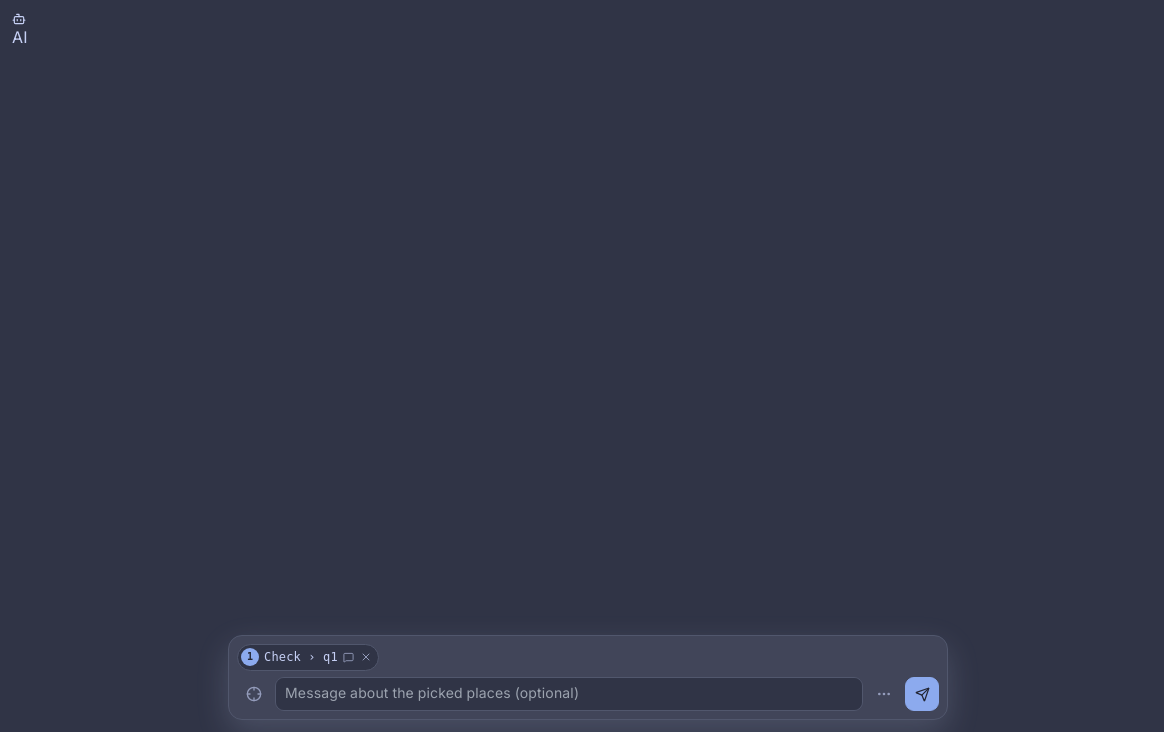
AssistantDock with the Pick tray › keeps asking from the message bar, repeating the earlier turns unchanged so the server can reuse its cache
The bar sends its picks with the message.
Click the button with test id "ai-toggle" at (20, 32), box left=12, top=12, right=28, bottom=52
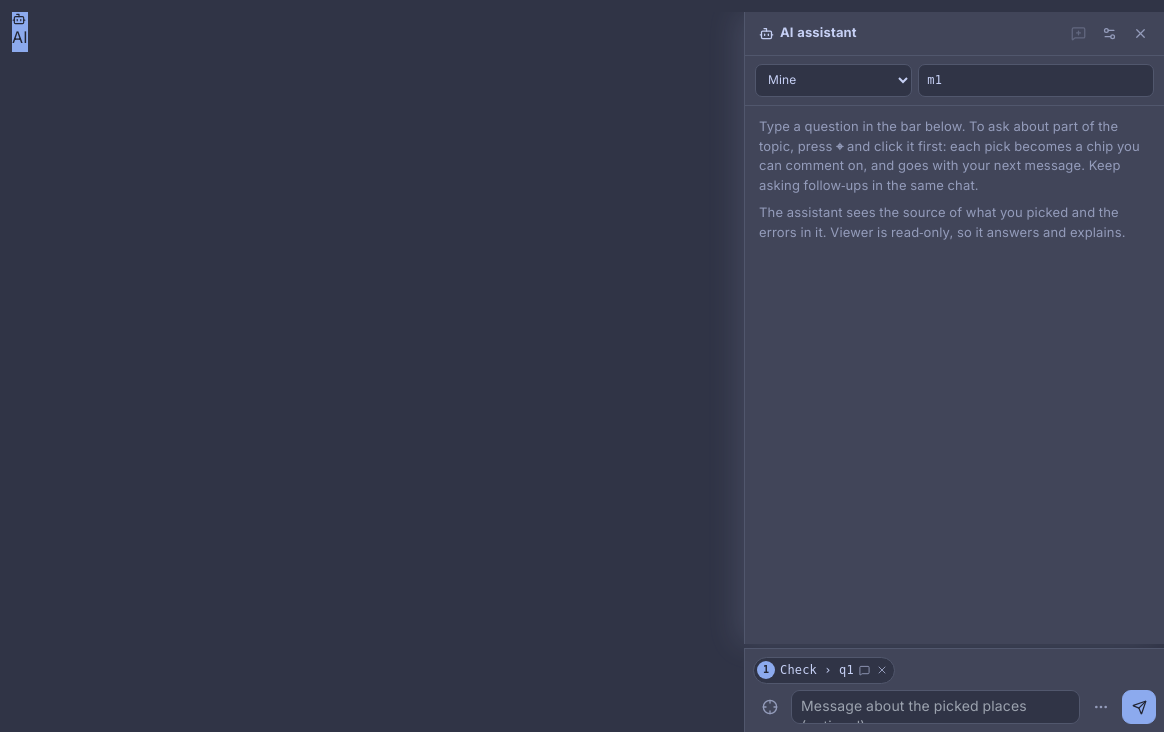
Type "Is it fair?" into the text box with test id "pick-composer" at (936, 707), box left=791, top=690, right=1080, bottom=724
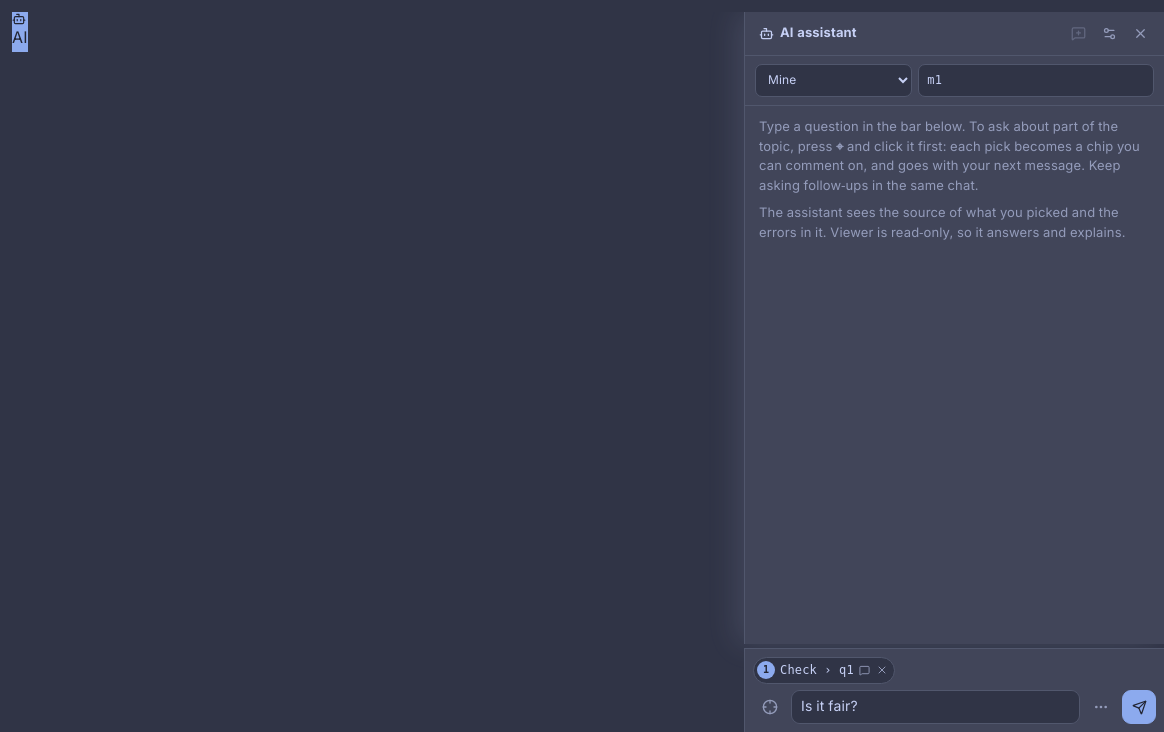
Press Enter in the text box with test id "pick-composer", box left=791, top=690, right=1080, bottom=724
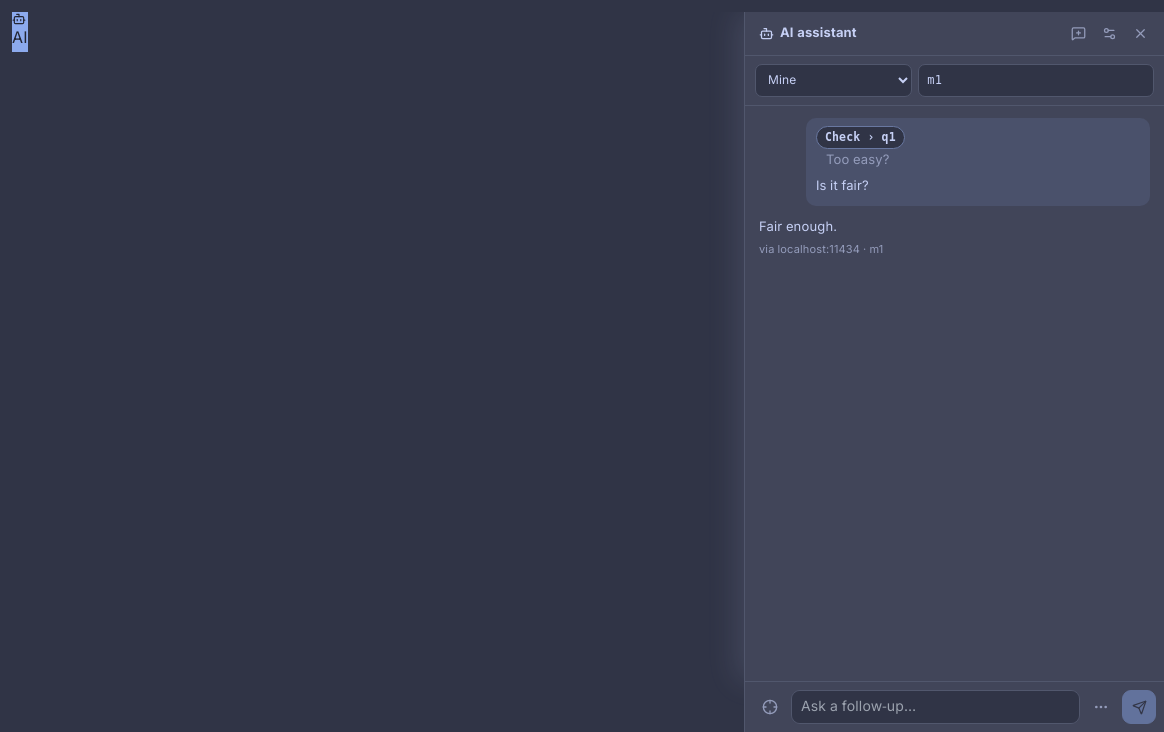
Check: the button with test id "ai-chip" reads "Check › q1", box left=816, top=126, right=905, bottom=149
Check: the list item with test id "pick-entry" is gone
Check: the text box with test id "pick-composer" is empty
A follow-up: Shift+Enter is a new line, Enter sends.
Type "And q2?" into the text box with test id "pick-composer" at (936, 707), box left=791, top=690, right=1080, bottom=724
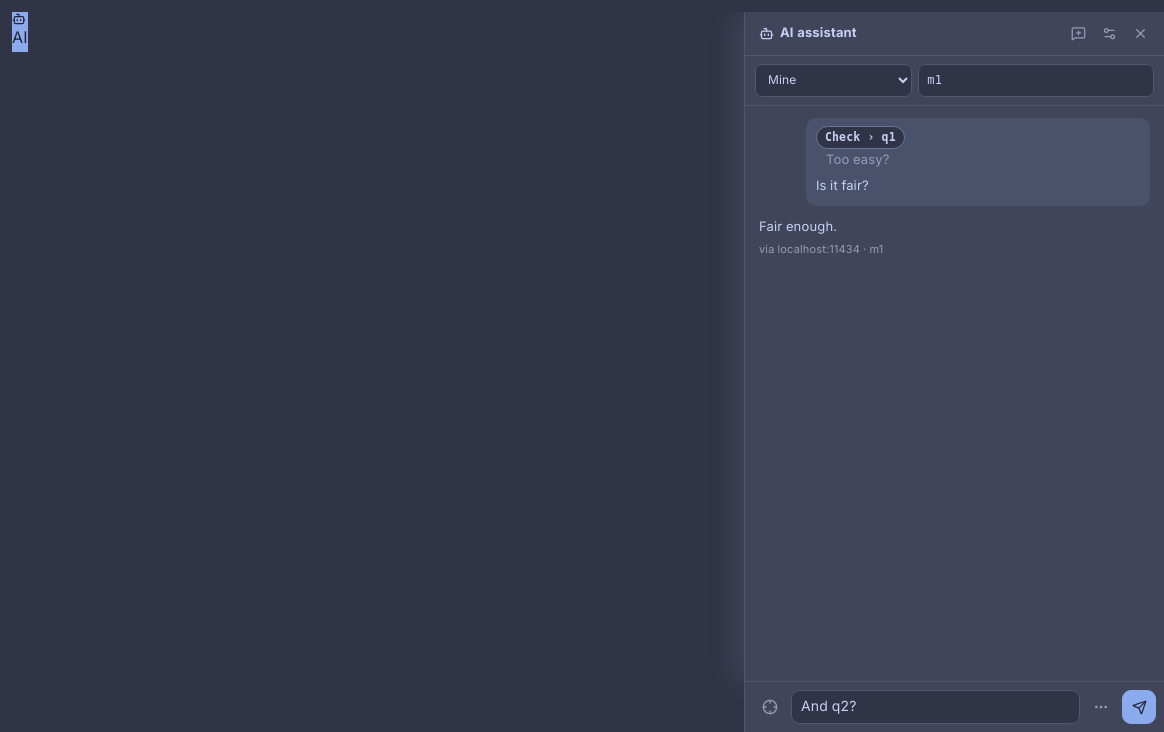
Press Enter in the text box with test id "pick-composer", box left=791, top=690, right=1080, bottom=724
Press Enter in the text box with test id "pick-composer", box left=791, top=690, right=1080, bottom=724
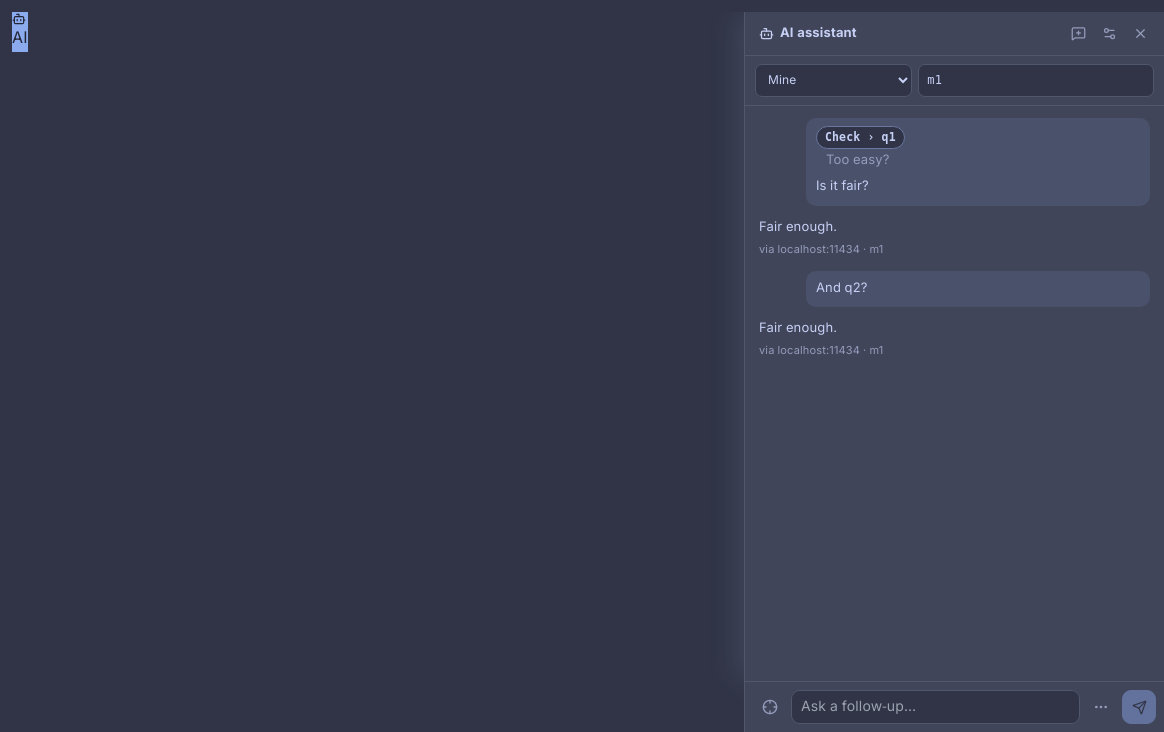
Check: the text "And q2?" is shown, box left=816, top=278, right=868, bottom=299
